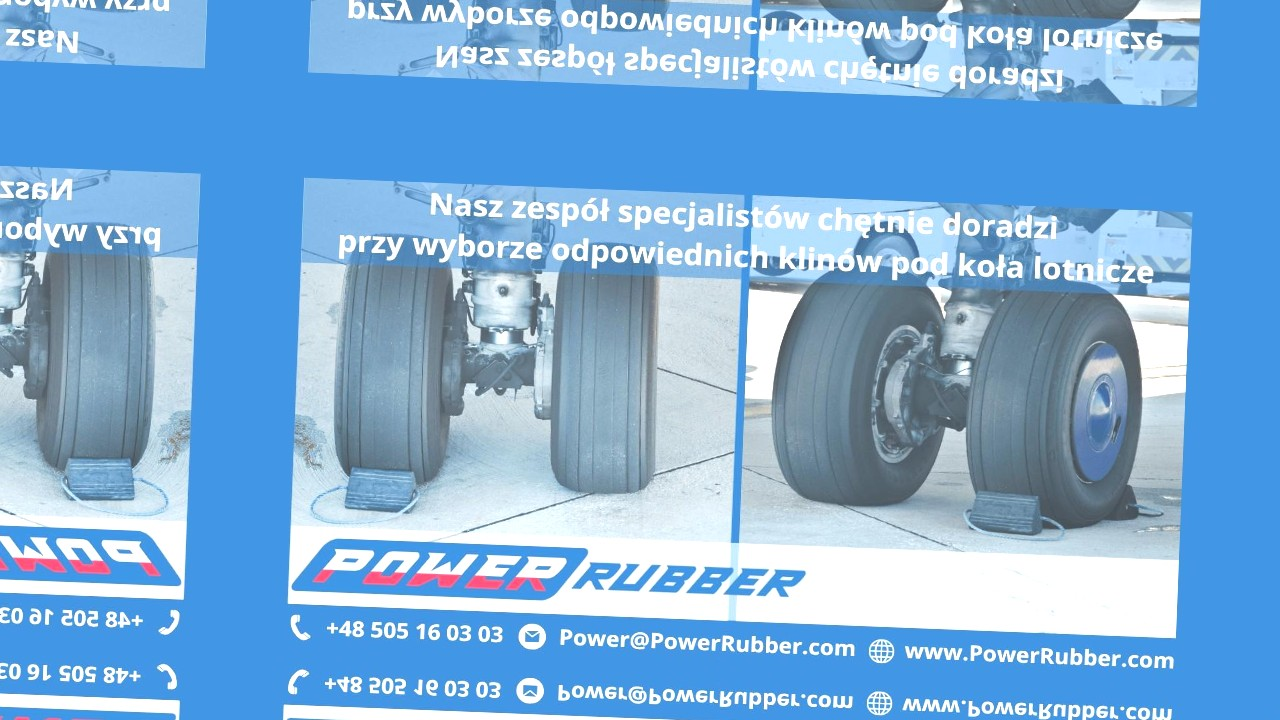chock: (58, 452, 138, 507), (342, 463, 422, 518), (967, 488, 1046, 538), (1105, 483, 1146, 524)
wheel: (962, 284, 1147, 531), (767, 271, 950, 509), (328, 232, 458, 487), (32, 221, 162, 475), (545, 243, 665, 496), (859, 16, 933, 69), (851, 226, 924, 279)
